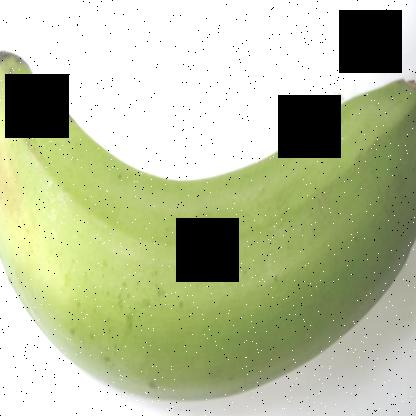freshunripe: (0, 26, 415, 414)
